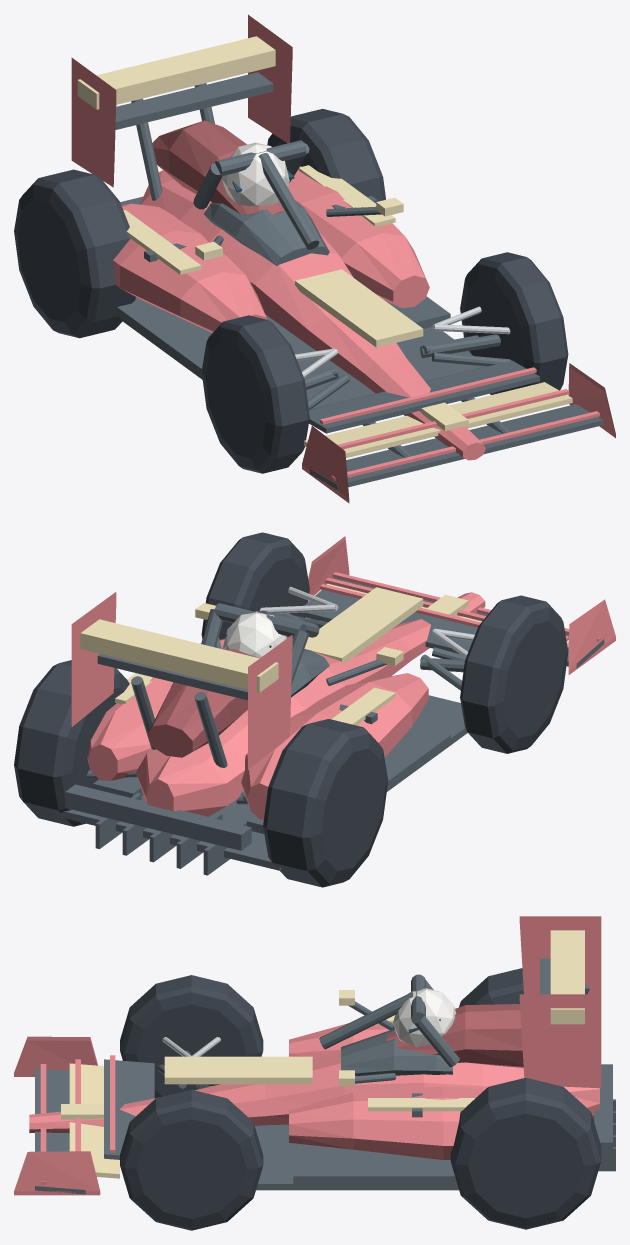
File: ferrari_mobile.glb
3 views of the same model, one above another, from view 1: azimuth 30°, elevation 25°; view 2: azimuth 150°, elevation 25°; view 3: azimuth 270°, elevation 25° (orthographic). The views are drawn at different scales.
Visible parts, largest first — view 1: BODY_paint, BODY_carbon, BODY_accent, RearLeftWheel_rubber, FrontLeftWheel_rubber, FrontRightWheel_rubber, RearRightWheel_rubber, BODY_paint_dark, BODY_helmet, BODY_metal; view 2: BODY_paint, BODY_carbon, RearLeftWheel_rubber, BODY_accent, FrontLeftWheel_rubber, RearRightWheel_rubber, FrontRightWheel_rubber, BODY_paint_dark, BODY_helmet, BODY_metal; view 3: BODY_paint, BODY_carbon, RearRightWheel_rubber, FrontRightWheel_rubber, BODY_accent, FrontLeftWheel_rubber, BODY_paint_dark, BODY_helmet, RearLeftWheel_rubber.
Part boxes in pixels (left/top/right/bottom): BODY_paint: left=71, top=14, right=615, bottom=503; BODY_carbon: left=115, top=72, right=603, bottom=489; BODY_accent: left=77, top=36, right=572, bottom=458; RearLeftWheel_rubber: left=14, top=169, right=135, bottom=338; FrontLeftWheel_rubber: left=201, top=315, right=309, bottom=473; FrontRightWheel_rubber: left=460, top=252, right=568, bottom=394; RearRightWheel_rubber: left=267, top=108, right=385, bottom=201; BODY_paint_dark: left=152, top=120, right=284, bottom=214; BODY_helmet: left=222, top=142, right=289, bottom=206; BODY_metal: left=295, top=306, right=510, bottom=377; BODY_paint: left=71, top=536, right=615, bottom=819; BODY_carbon: left=56, top=578, right=604, bottom=875; RearLeftWheel_rubber: left=263, top=719, right=388, bottom=887; BODY_accent: left=80, top=583, right=568, bottom=725; FrontLeftWheel_rubber: left=460, top=595, right=568, bottom=753; RearRightWheel_rubber: left=14, top=660, right=129, bottom=826; FrontRightWheel_rubber: left=201, top=532, right=309, bottom=639; BODY_paint_dark: left=147, top=649, right=259, bottom=757; BODY_helmet: left=222, top=611, right=286, bottom=657; BODY_metal: left=259, top=586, right=474, bottom=658; BODY_paint: left=14, top=916, right=601, bottom=1195; BODY_carbon: left=35, top=958, right=615, bottom=1194; RearRightWheel_rubber: left=450, top=1077, right=601, bottom=1229; FrontRightWheel_rubber: left=120, top=1089, right=263, bottom=1230; BODY_accent: left=61, top=930, right=584, bottom=1178; FrontLeftWheel_rubber: left=120, top=975, right=263, bottom=1098; BODY_paint_dark: left=386, top=1004, right=523, bottom=1067; BODY_helmet: left=393, top=988, right=456, bottom=1047; RearLeftWheel_rubber: left=459, top=968, right=523, bottom=1007.
Size of the model in its own units: 2.59 by 1.9 by 4.88.
